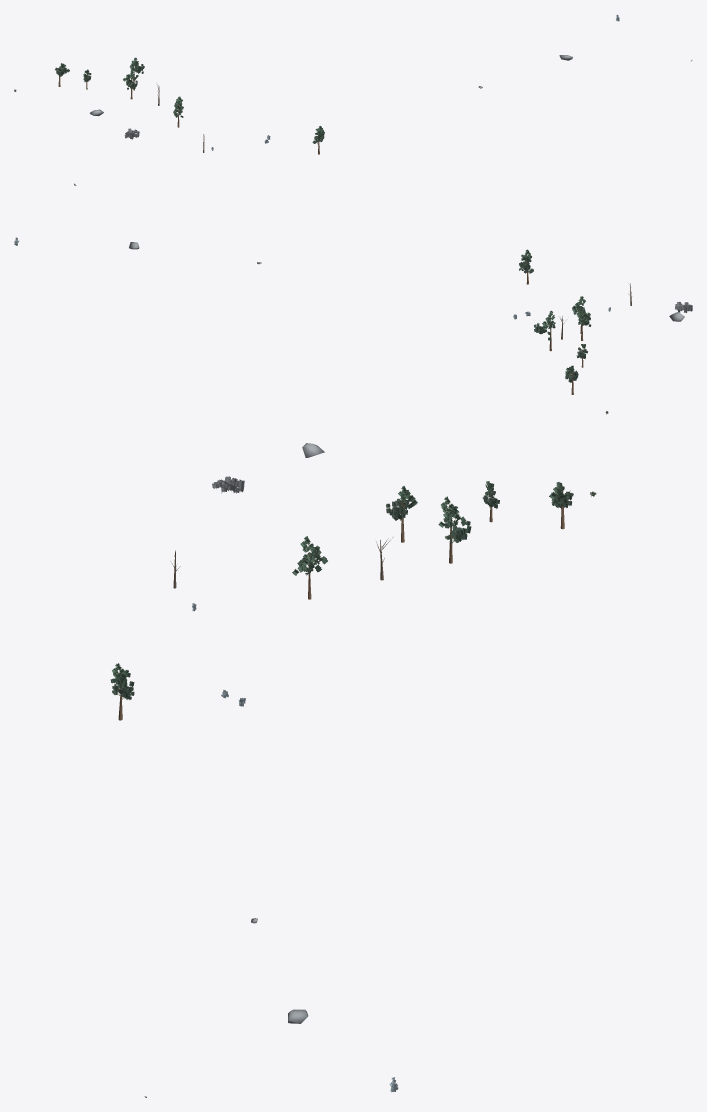
File: frost_land_scatter_c22_08.glb
3 views of the same model, one above another, from view 1: azimuth 30°, elevation 25°; view 2: azimuth 150°, elevation 25°; view 3: azimuth 270°, elevation 25° (orthographic). The views are drawn at different scales.
Visible parts, largest first — view 1: frost_land_scatter_c22_08; view 2: frost_land_scatter_c22_08; view 3: frost_land_scatter_c22_08.
Boxes of the visible parts, left/top/right/bottom form: frost_land_scatter_c22_08: left=14, top=14, right=692, bottom=154; frost_land_scatter_c22_08: left=14, top=183, right=692, bottom=414; frost_land_scatter_c22_08: left=110, top=443, right=596, bottom=1097.
Bounding box in the file's own units: 219 × 26.15 × 81.14.
